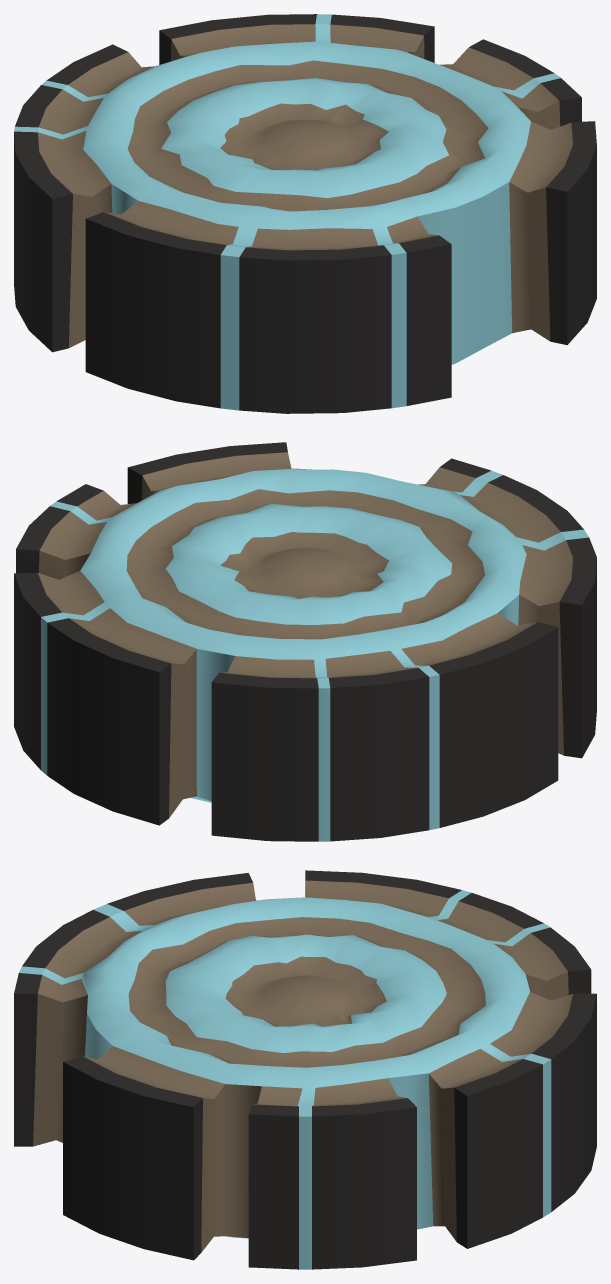
File: SM_Resource_DragonBlood.fbx
The picture shows the model from 3 angles, top to bottom: view 1: azimuth 30°, elevation 25°; view 2: azimuth 150°, elevation 25°; view 3: azimuth 270°, elevation 25°; orthographic projection.
Visible parts, largest first — view 1: Resource_DragonBlood; view 2: Resource_DragonBlood; view 3: Resource_DragonBlood.
Part boxes in pixels (x1=…): Resource_DragonBlood: x1=14, y1=14, x2=596, y2=413; Resource_DragonBlood: x1=14, y1=442, x2=596, y2=841; Resource_DragonBlood: x1=14, y1=870, x2=596, y2=1269.
Bounding box in the file's own units: 134 × 44.67 × 134.
